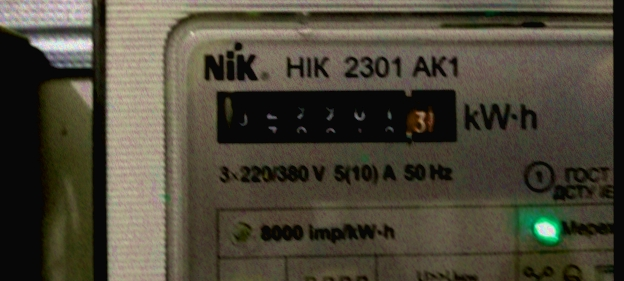0: (232, 99, 250, 126), (351, 93, 367, 122)
1: (382, 92, 395, 120)
2: (262, 93, 280, 120)
3: (411, 107, 428, 133)
9: (292, 93, 308, 120), (323, 94, 336, 121)
screen: (207, 79, 467, 152)
